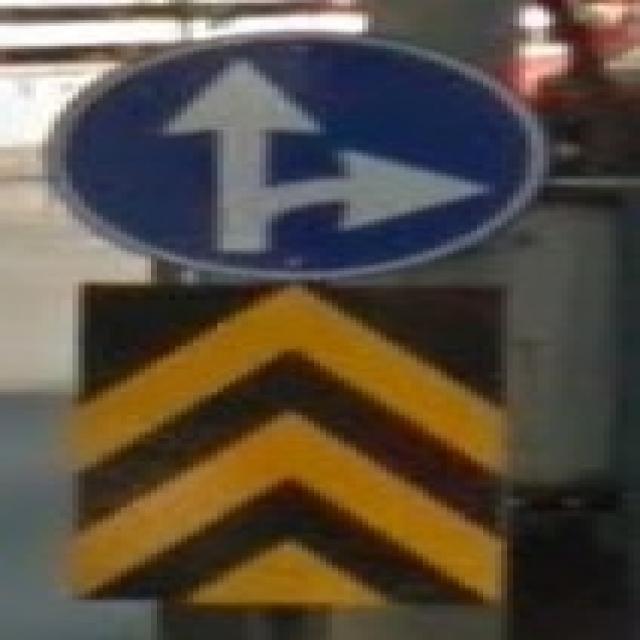Straight or Right: (59, 31, 536, 265)
